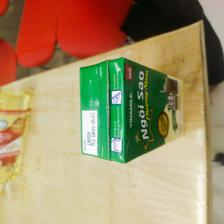NSPN_Hop: (79, 56, 185, 167)
